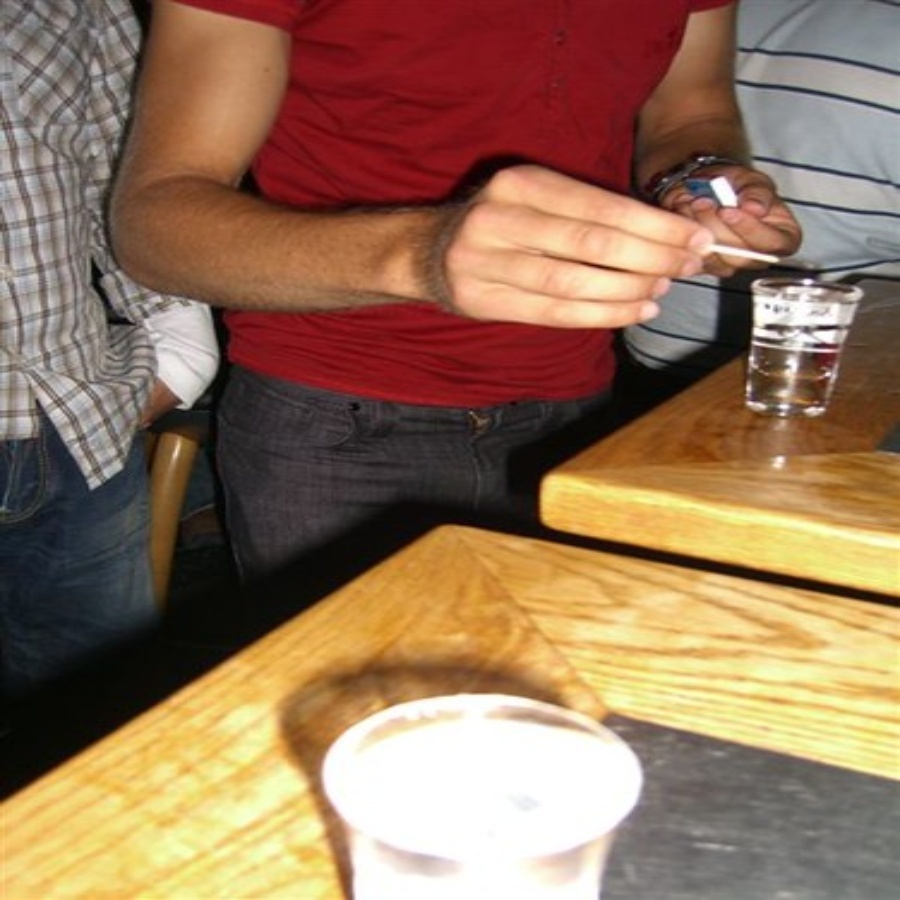whiskey: (727, 281, 867, 422)
